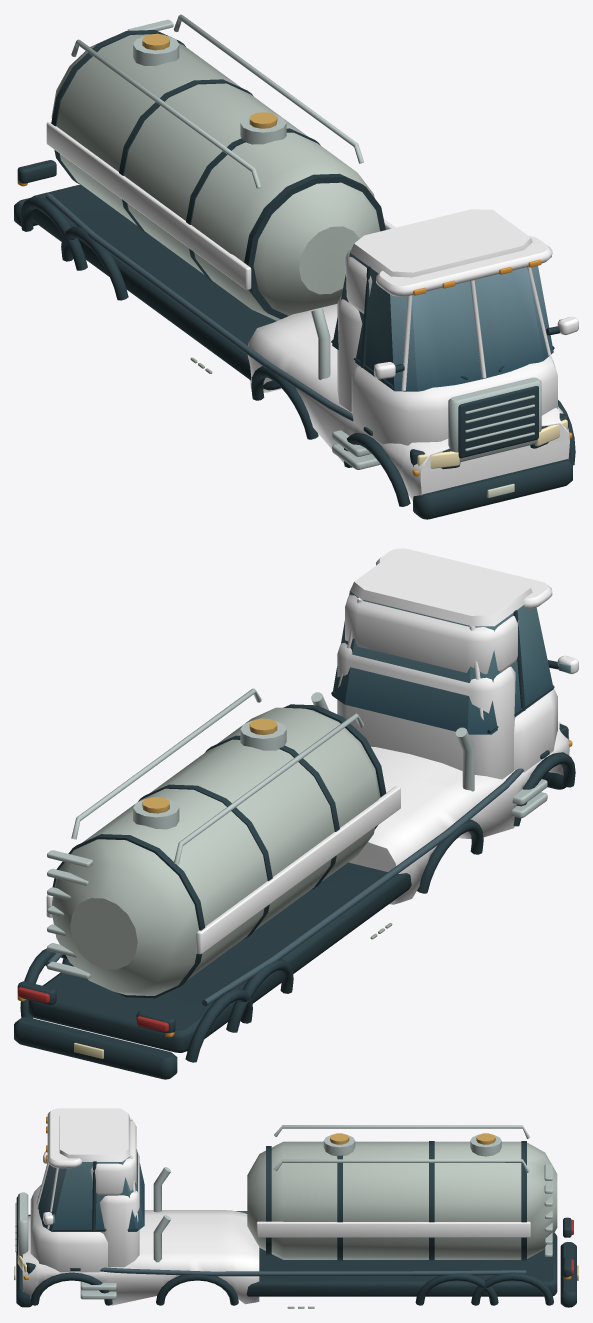
The model's file is petrel.glb.
The picture shows the model from 3 angles, top to bottom: view 1: azimuth 30°, elevation 25°; view 2: azimuth 150°, elevation 25°; view 3: azimuth 270°, elevation 25°; orthographic projection. The views are drawn at different scales.
Visible parts, largest first — view 1: Chassis, Headlamps; view 2: Chassis, BrakeLamps; view 3: Chassis.
Boxes of the visible parts, x1,y1,x2,y2 form: Chassis: (14,14,578,519); Headlamps: (417,419,567,468); Chassis: (14,548,578,1079); BrakeLamps: (17,987,168,1032); Chassis: (14,1108,578,1308).
Size of the model in its own units: 2.21 by 2.32 by 7.83.
